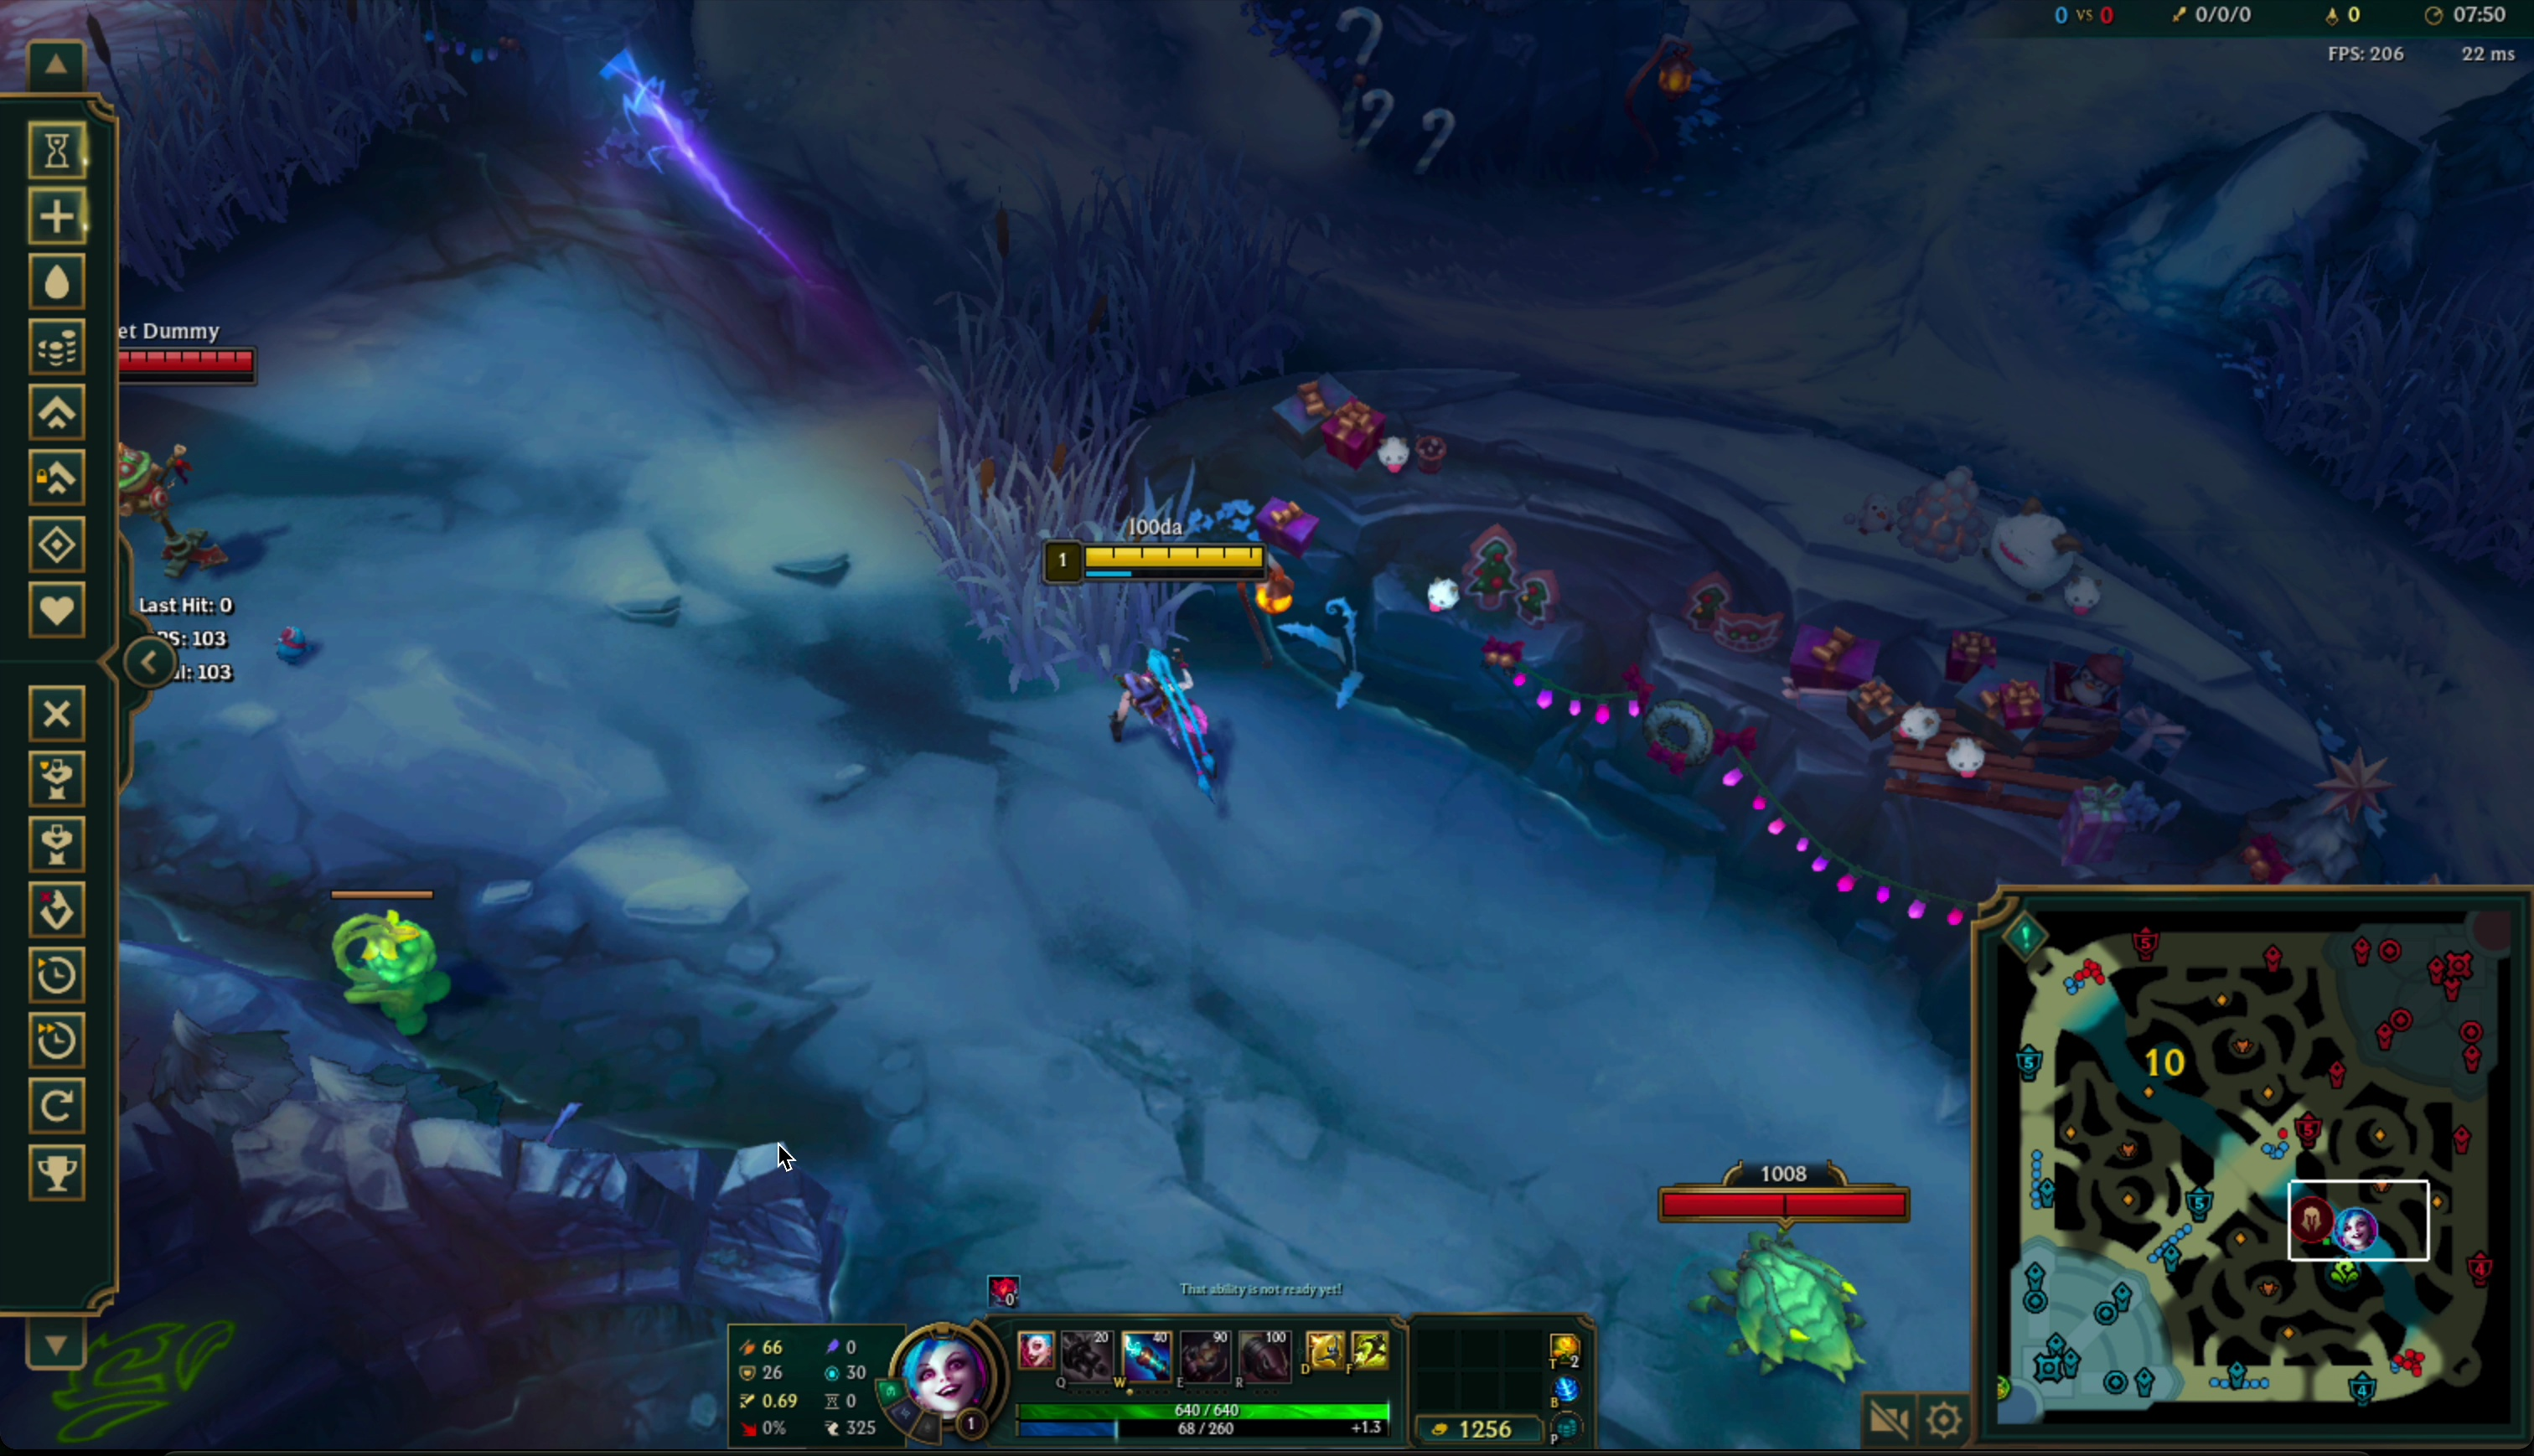JINX_W_PROJECTILE: (540, 31, 905, 325)
